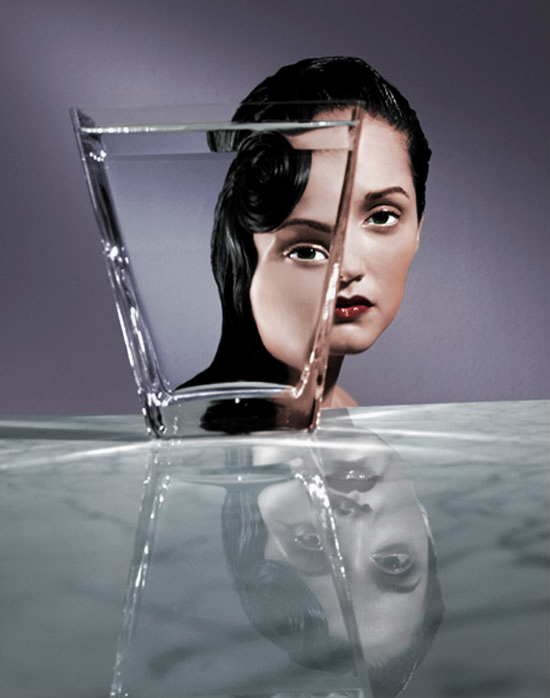glass of water: (56, 89, 373, 444)
